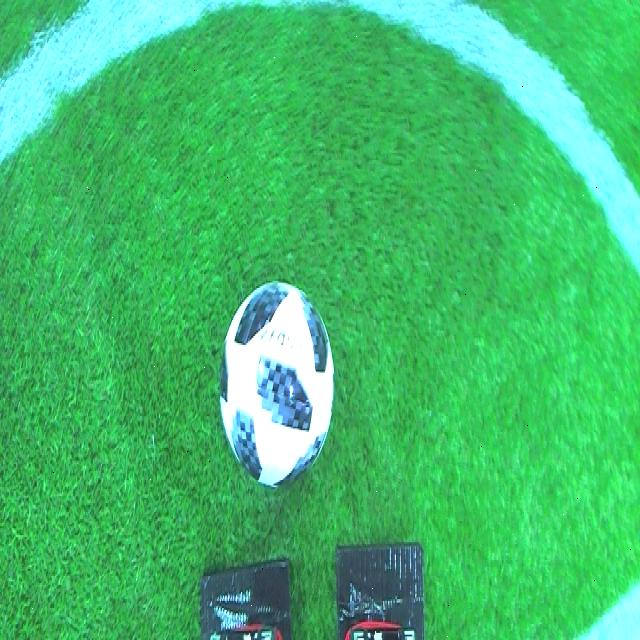ball: (218, 279, 339, 489)
